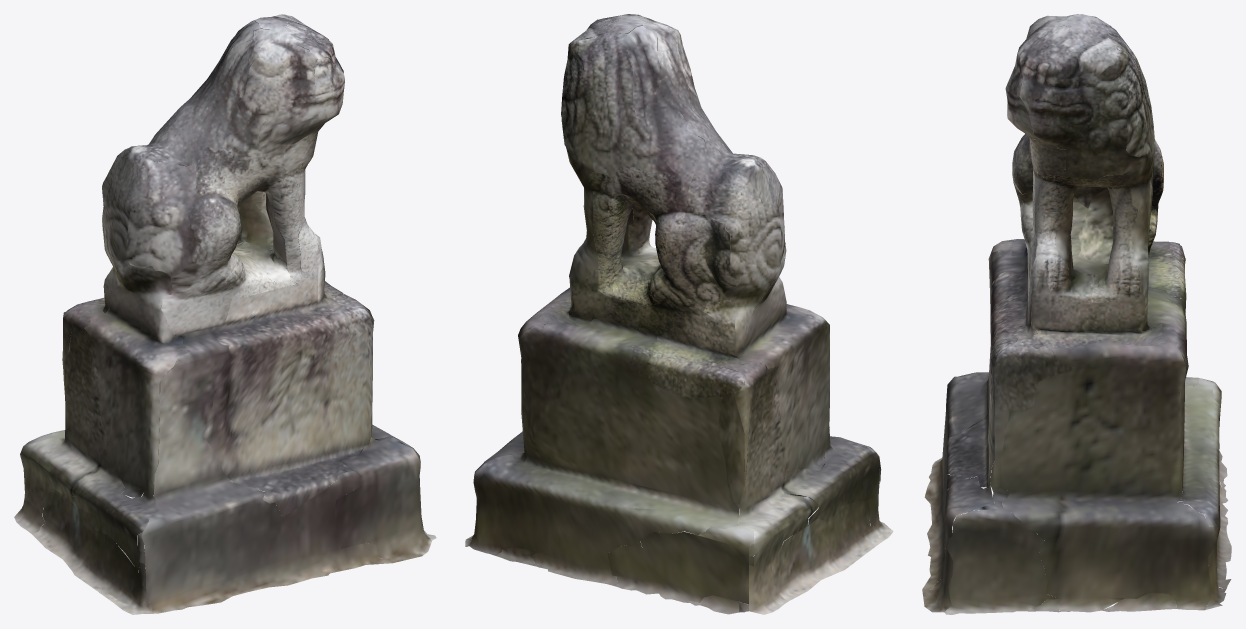
File: Komainu_UN.fbx
3 views of the same model, side by side, from view 1: azimuth 30°, elevation 25°; view 2: azimuth 150°, elevation 25°; view 3: azimuth 270°, elevation 25° (orthographic). The views are drawn at different scales.
Visible parts, largest first — view 1: Komainu_UN; view 2: Komainu_UN; view 3: Komainu_UN.
Boxes of the visible parts, x1,y1,x2,y2 form: Komainu_UN: (14, 14, 436, 614); Komainu_UN: (465, 14, 893, 614); Komainu_UN: (922, 14, 1231, 614).
Bounding box in the file's own units: 88.66 × 137 × 70.42.
Materials: 1 (1 with a texture image).
